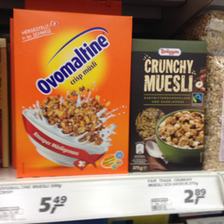cereal: (11, 7, 134, 176), (131, 38, 209, 173)
